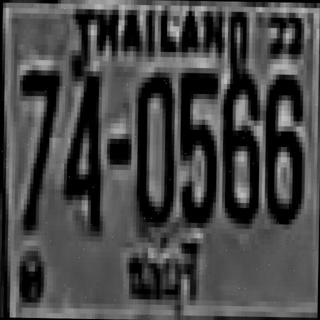N00: (133, 69, 175, 225)
N04: (60, 62, 102, 228)
N05: (176, 67, 215, 223)
N06: (261, 69, 303, 220), (218, 68, 258, 218)
N07: (15, 67, 58, 228), (16, 64, 58, 178)
